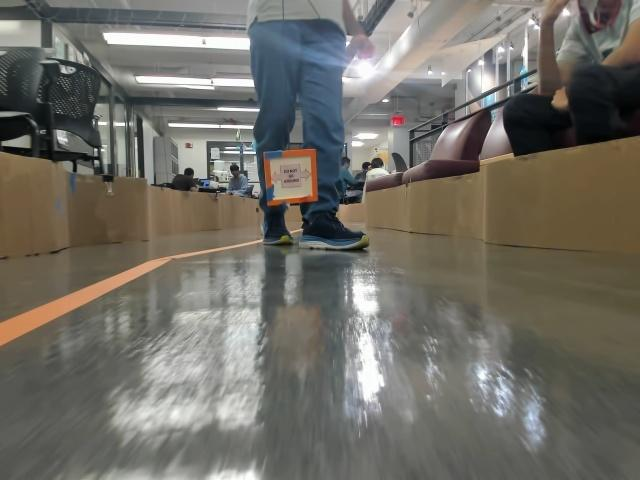Do Not Go Around: (270, 164, 308, 188)
